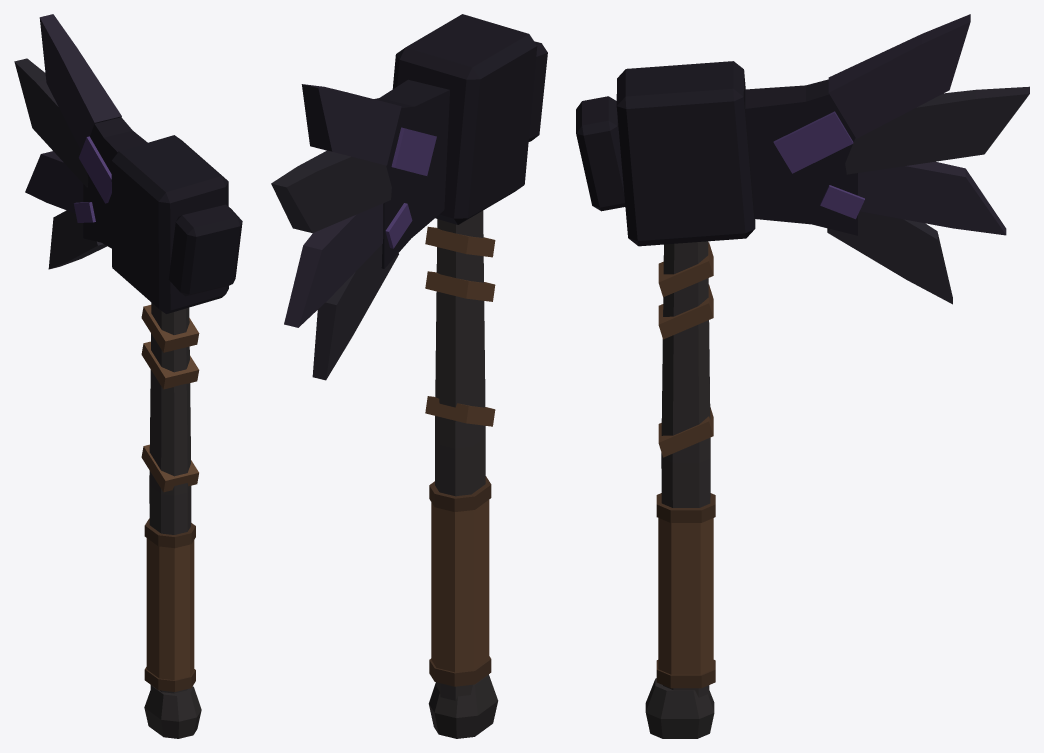
Rendered from ObsidianAxe.glb.
3 views of the same model, side by side, from view 1: azimuth 30°, elevation 25°; view 2: azimuth 150°, elevation 25°; view 3: azimuth 270°, elevation 25° (orthographic). The views are drawn at different scales.
Parts seen in each view (by area): view 1: Head, Handle; view 2: Head, Handle; view 3: Head, Handle.
Boxes of the visible parts, x1,y1,x2,y2 form: Head: (14,14,242,313); Handle: (141,302,201,738); Head: (271,14,547,380); Handle: (425,210,498,738); Head: (576,14,1029,304); Handle: (645,241,715,738).
Bounding box in the file's own units: 0.5474 × 4.31 × 2.49.
